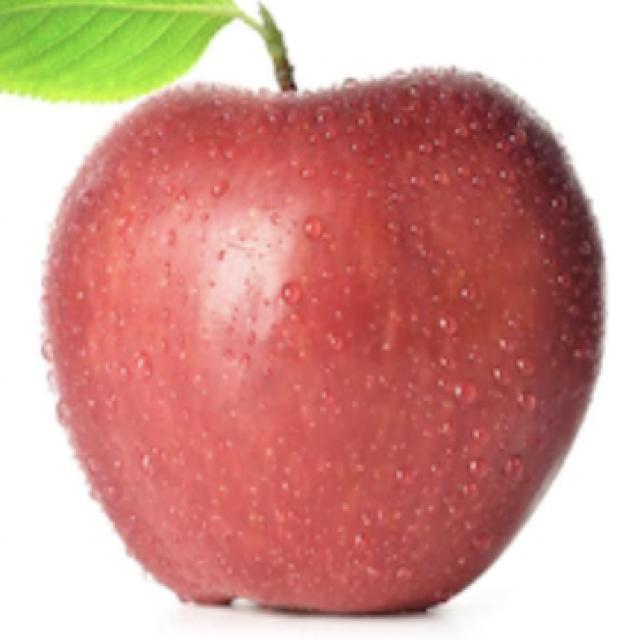Fresh Apple: (51, 51, 611, 640)
